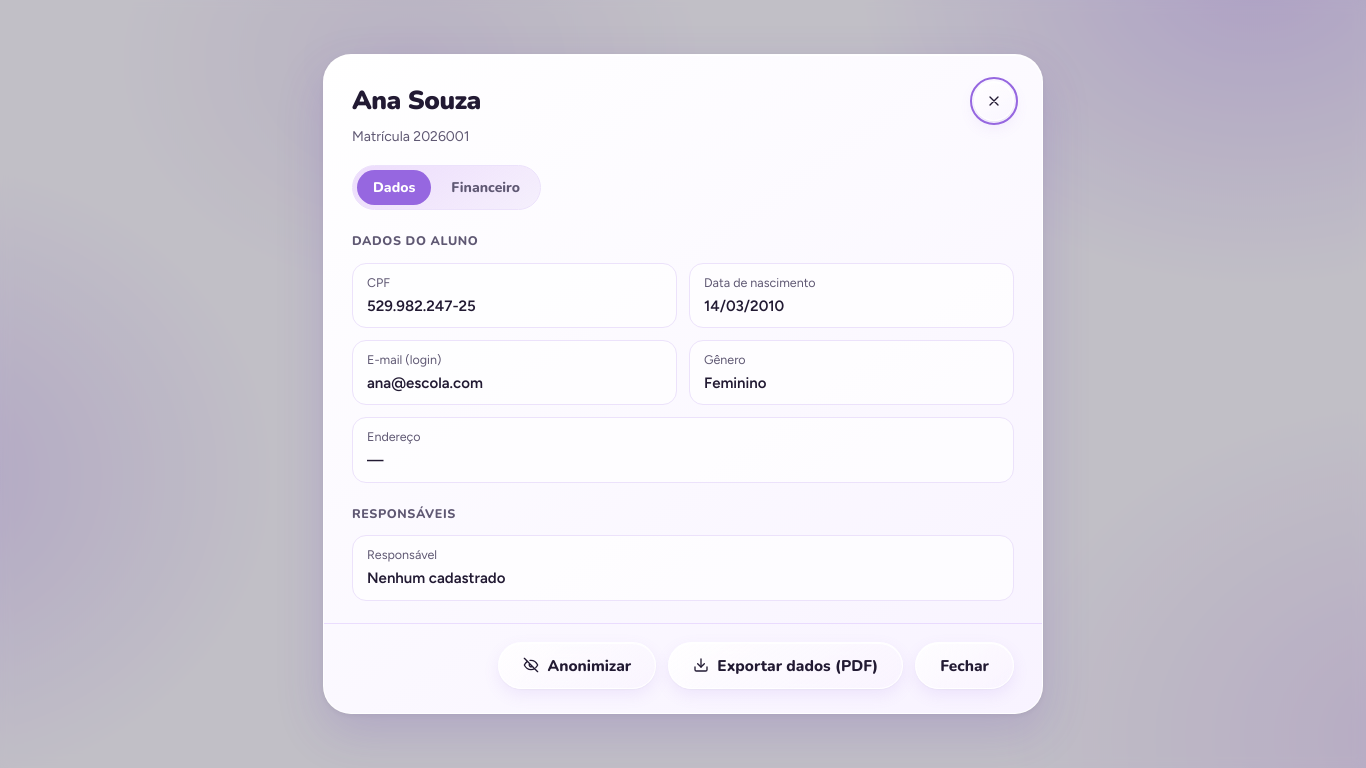
it: Detalhes do aluno: dados pessoais (LGPD) › explica por que não anonimiza quem ainda tem matrícula
Expected: the text "529.982.247-25" is shown, [367,297,476,315]
Click the button "Anonimizar": (577, 665) [498,642,656,689]
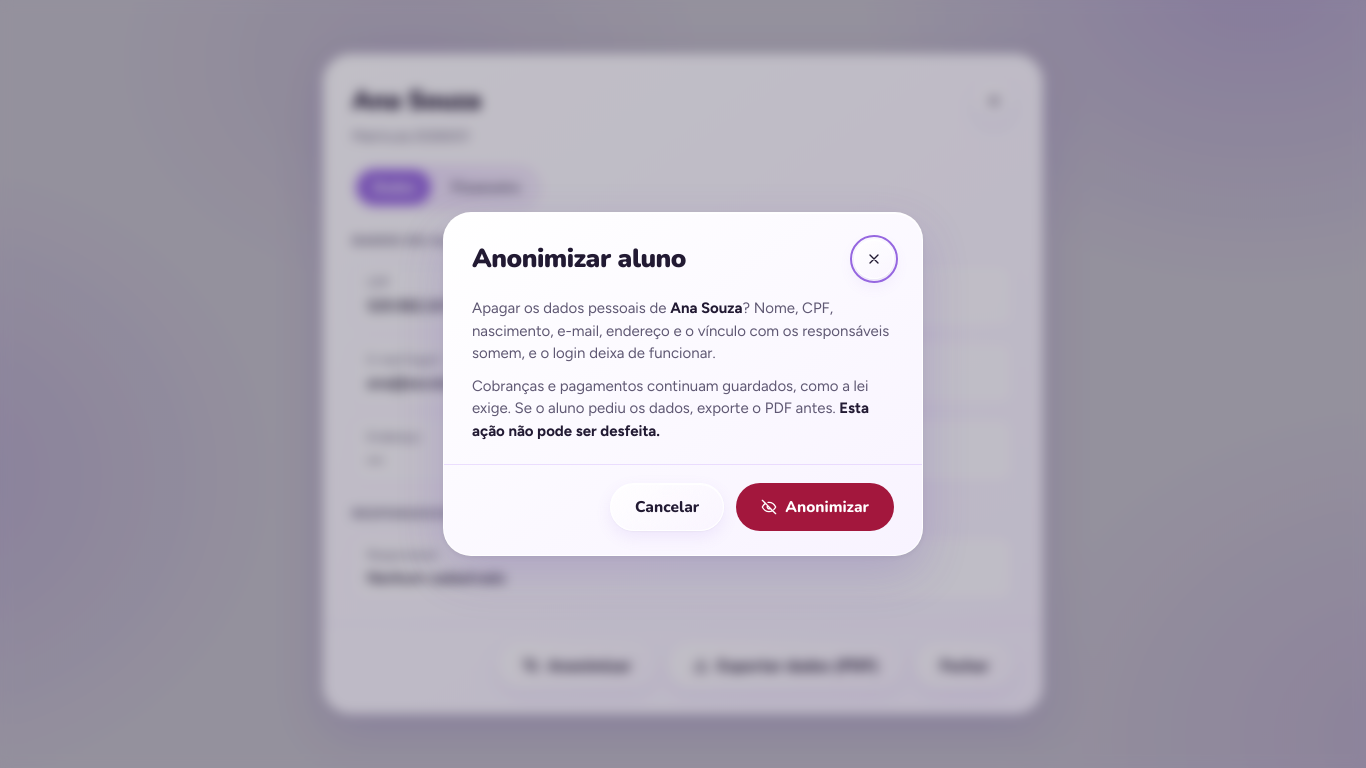
Click the button "Anonimizar": (815, 507) [736,483,894,531]
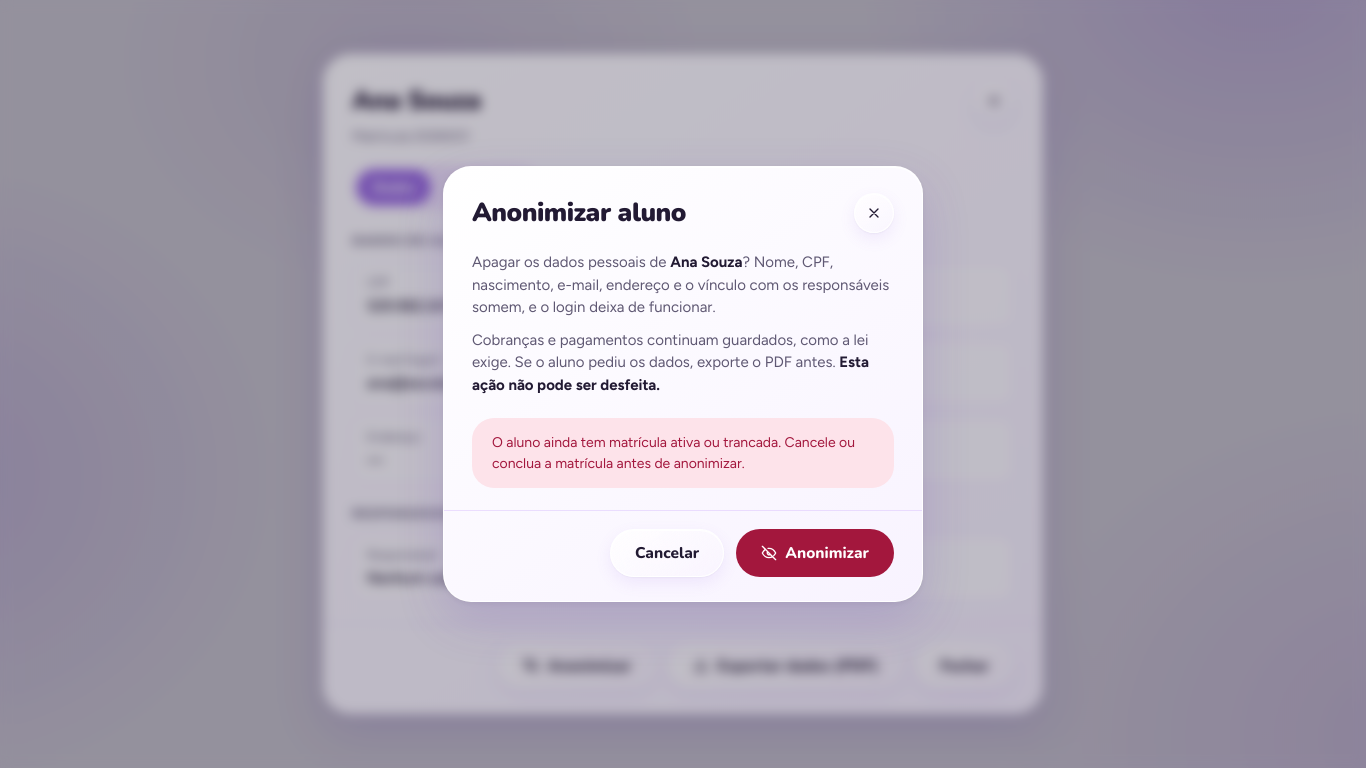
Now the text "ainda tem matrícula ativa ou trancada" is shown, box [492,434,855,472]
